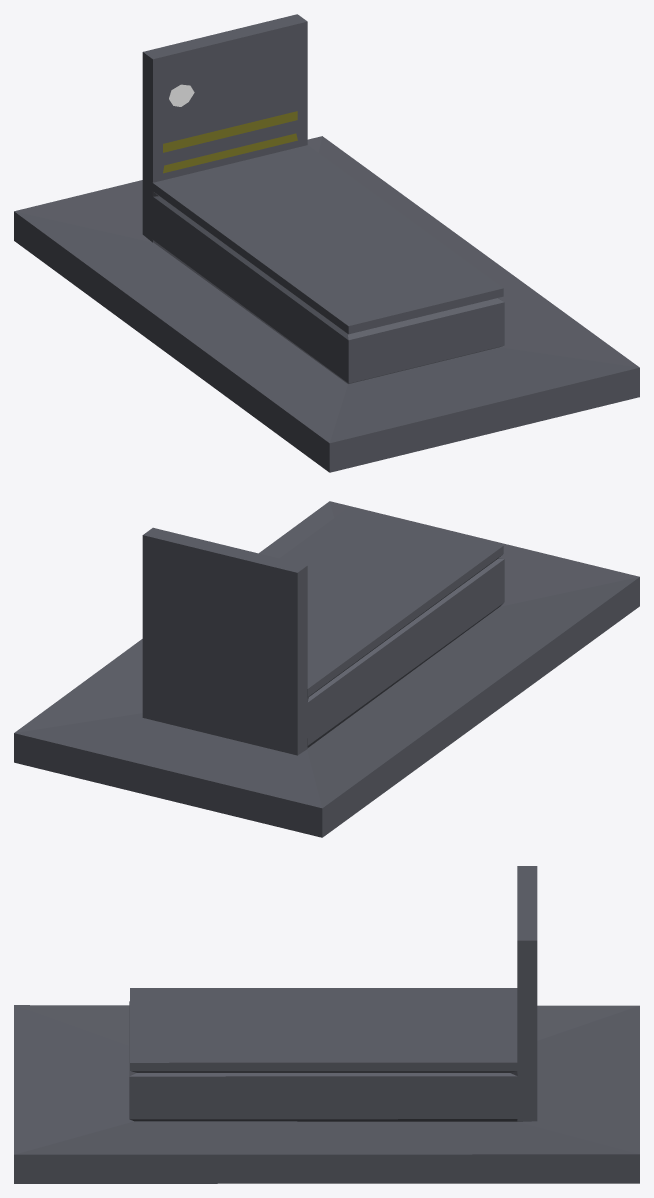
File: Model_Grob2.fbx
3 renders of one model, top to bottom at view 1: azimuth 30°, elevation 25°; view 2: azimuth 150°, elevation 25°; view 3: azimuth 270°, elevation 25°, orthographic.
Visible parts, largest first — view 1: Cube; view 2: Cube; view 3: Cube.
Boxes of the visible parts, <box> form: Cube: <box>14,14,639,472</box>; Cube: <box>14,501,639,837</box>; Cube: <box>14,866,639,1183</box>.
Size of the model in its own units: 323 by 117 by 183.
